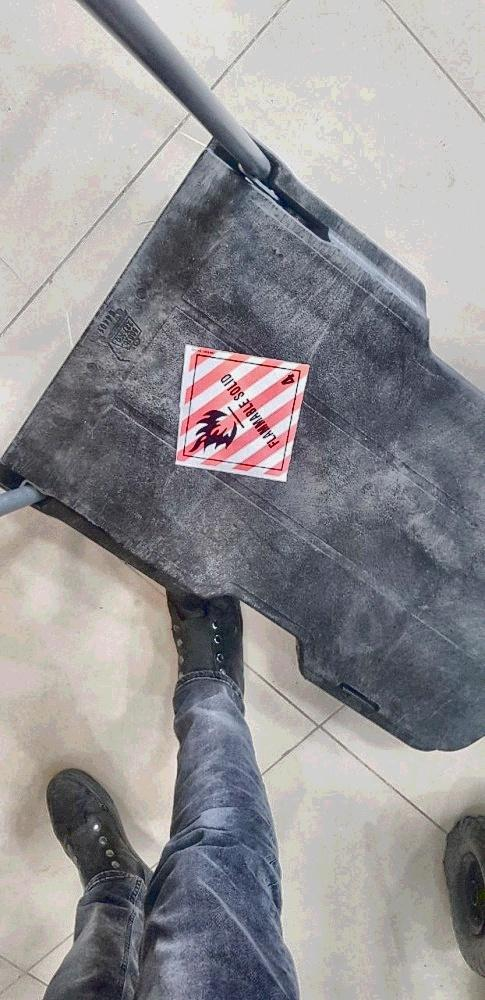flammable-solid: (172, 343, 311, 484)
